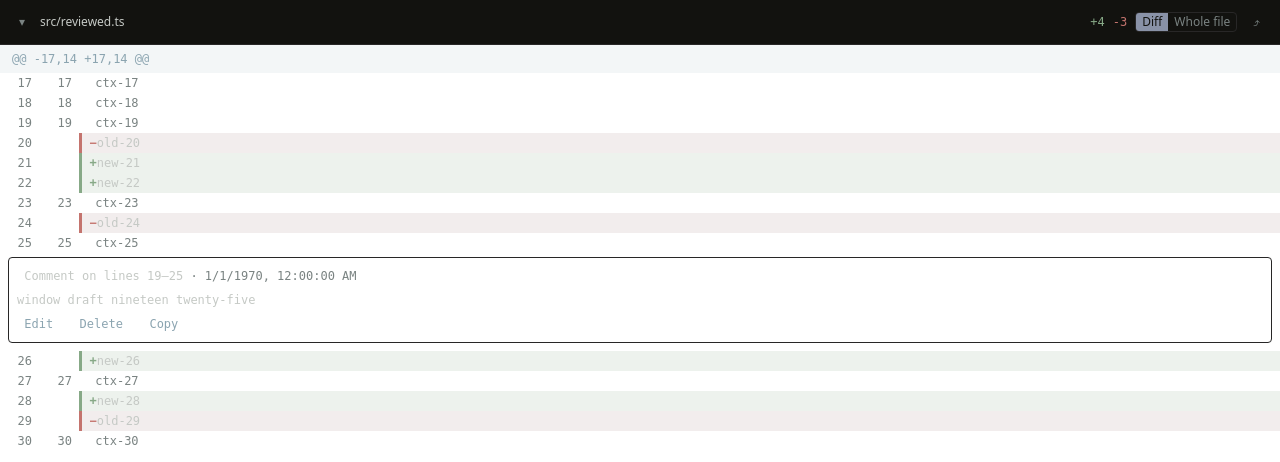
Test: SidebarDiffView row clicks › clicking a row reopens the box with the saved draft
The image size is (1280, 462).
Click the row "22 +new-22" at (640, 183), box 0,173 -> 1279,193
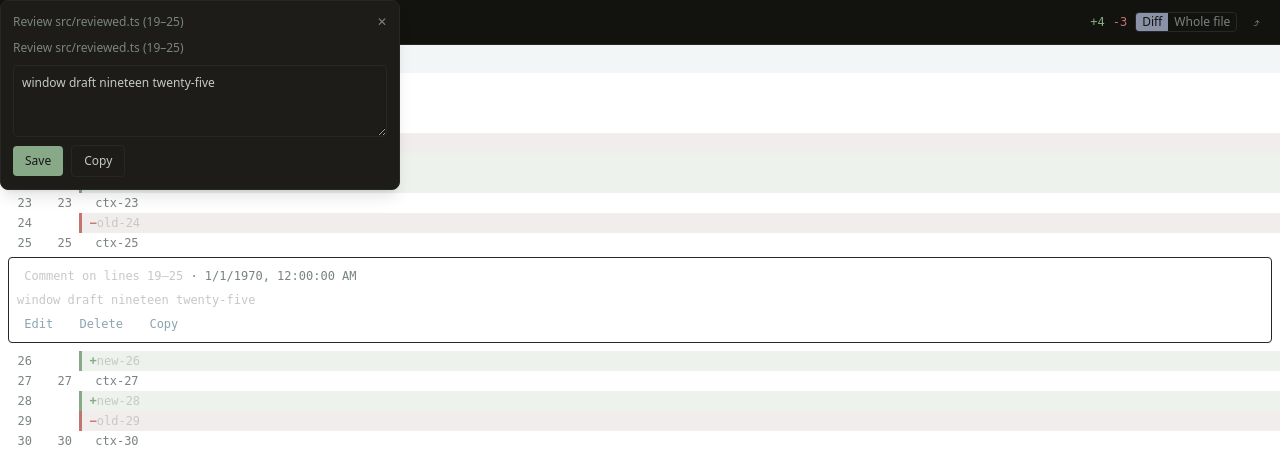
Check: the element showing "Review src/reviewed.ts (19–25) Save Copy" is shown, box 13,39 -> 387,177
Check: the text box with test id "diff-comment-input" holds "window draft nineteen twenty-five", box 13,65 -> 387,137
